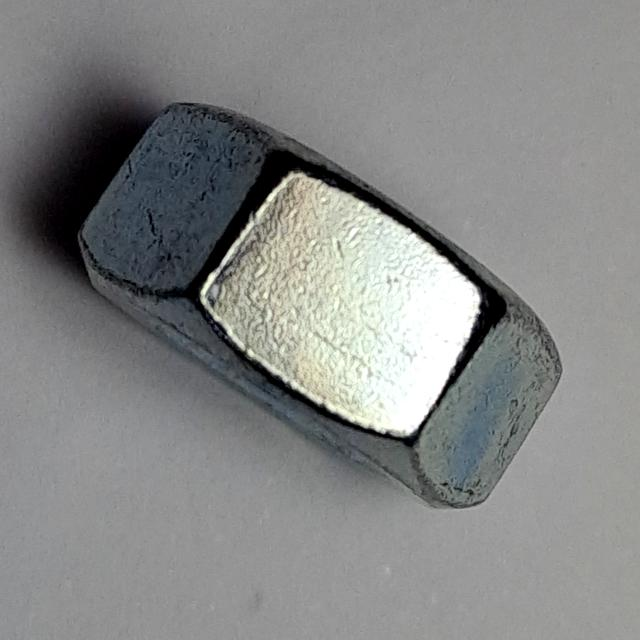Side_Excellent: (64, 89, 572, 522)
